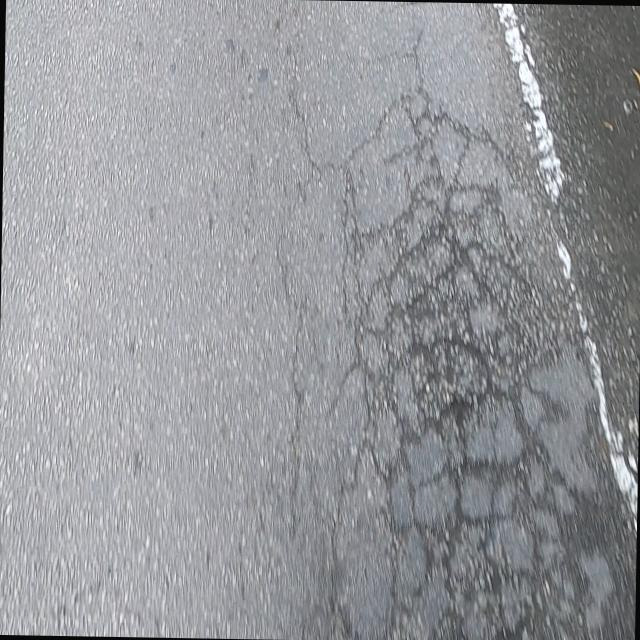Retak-Buaya: (327, 77, 613, 640)
